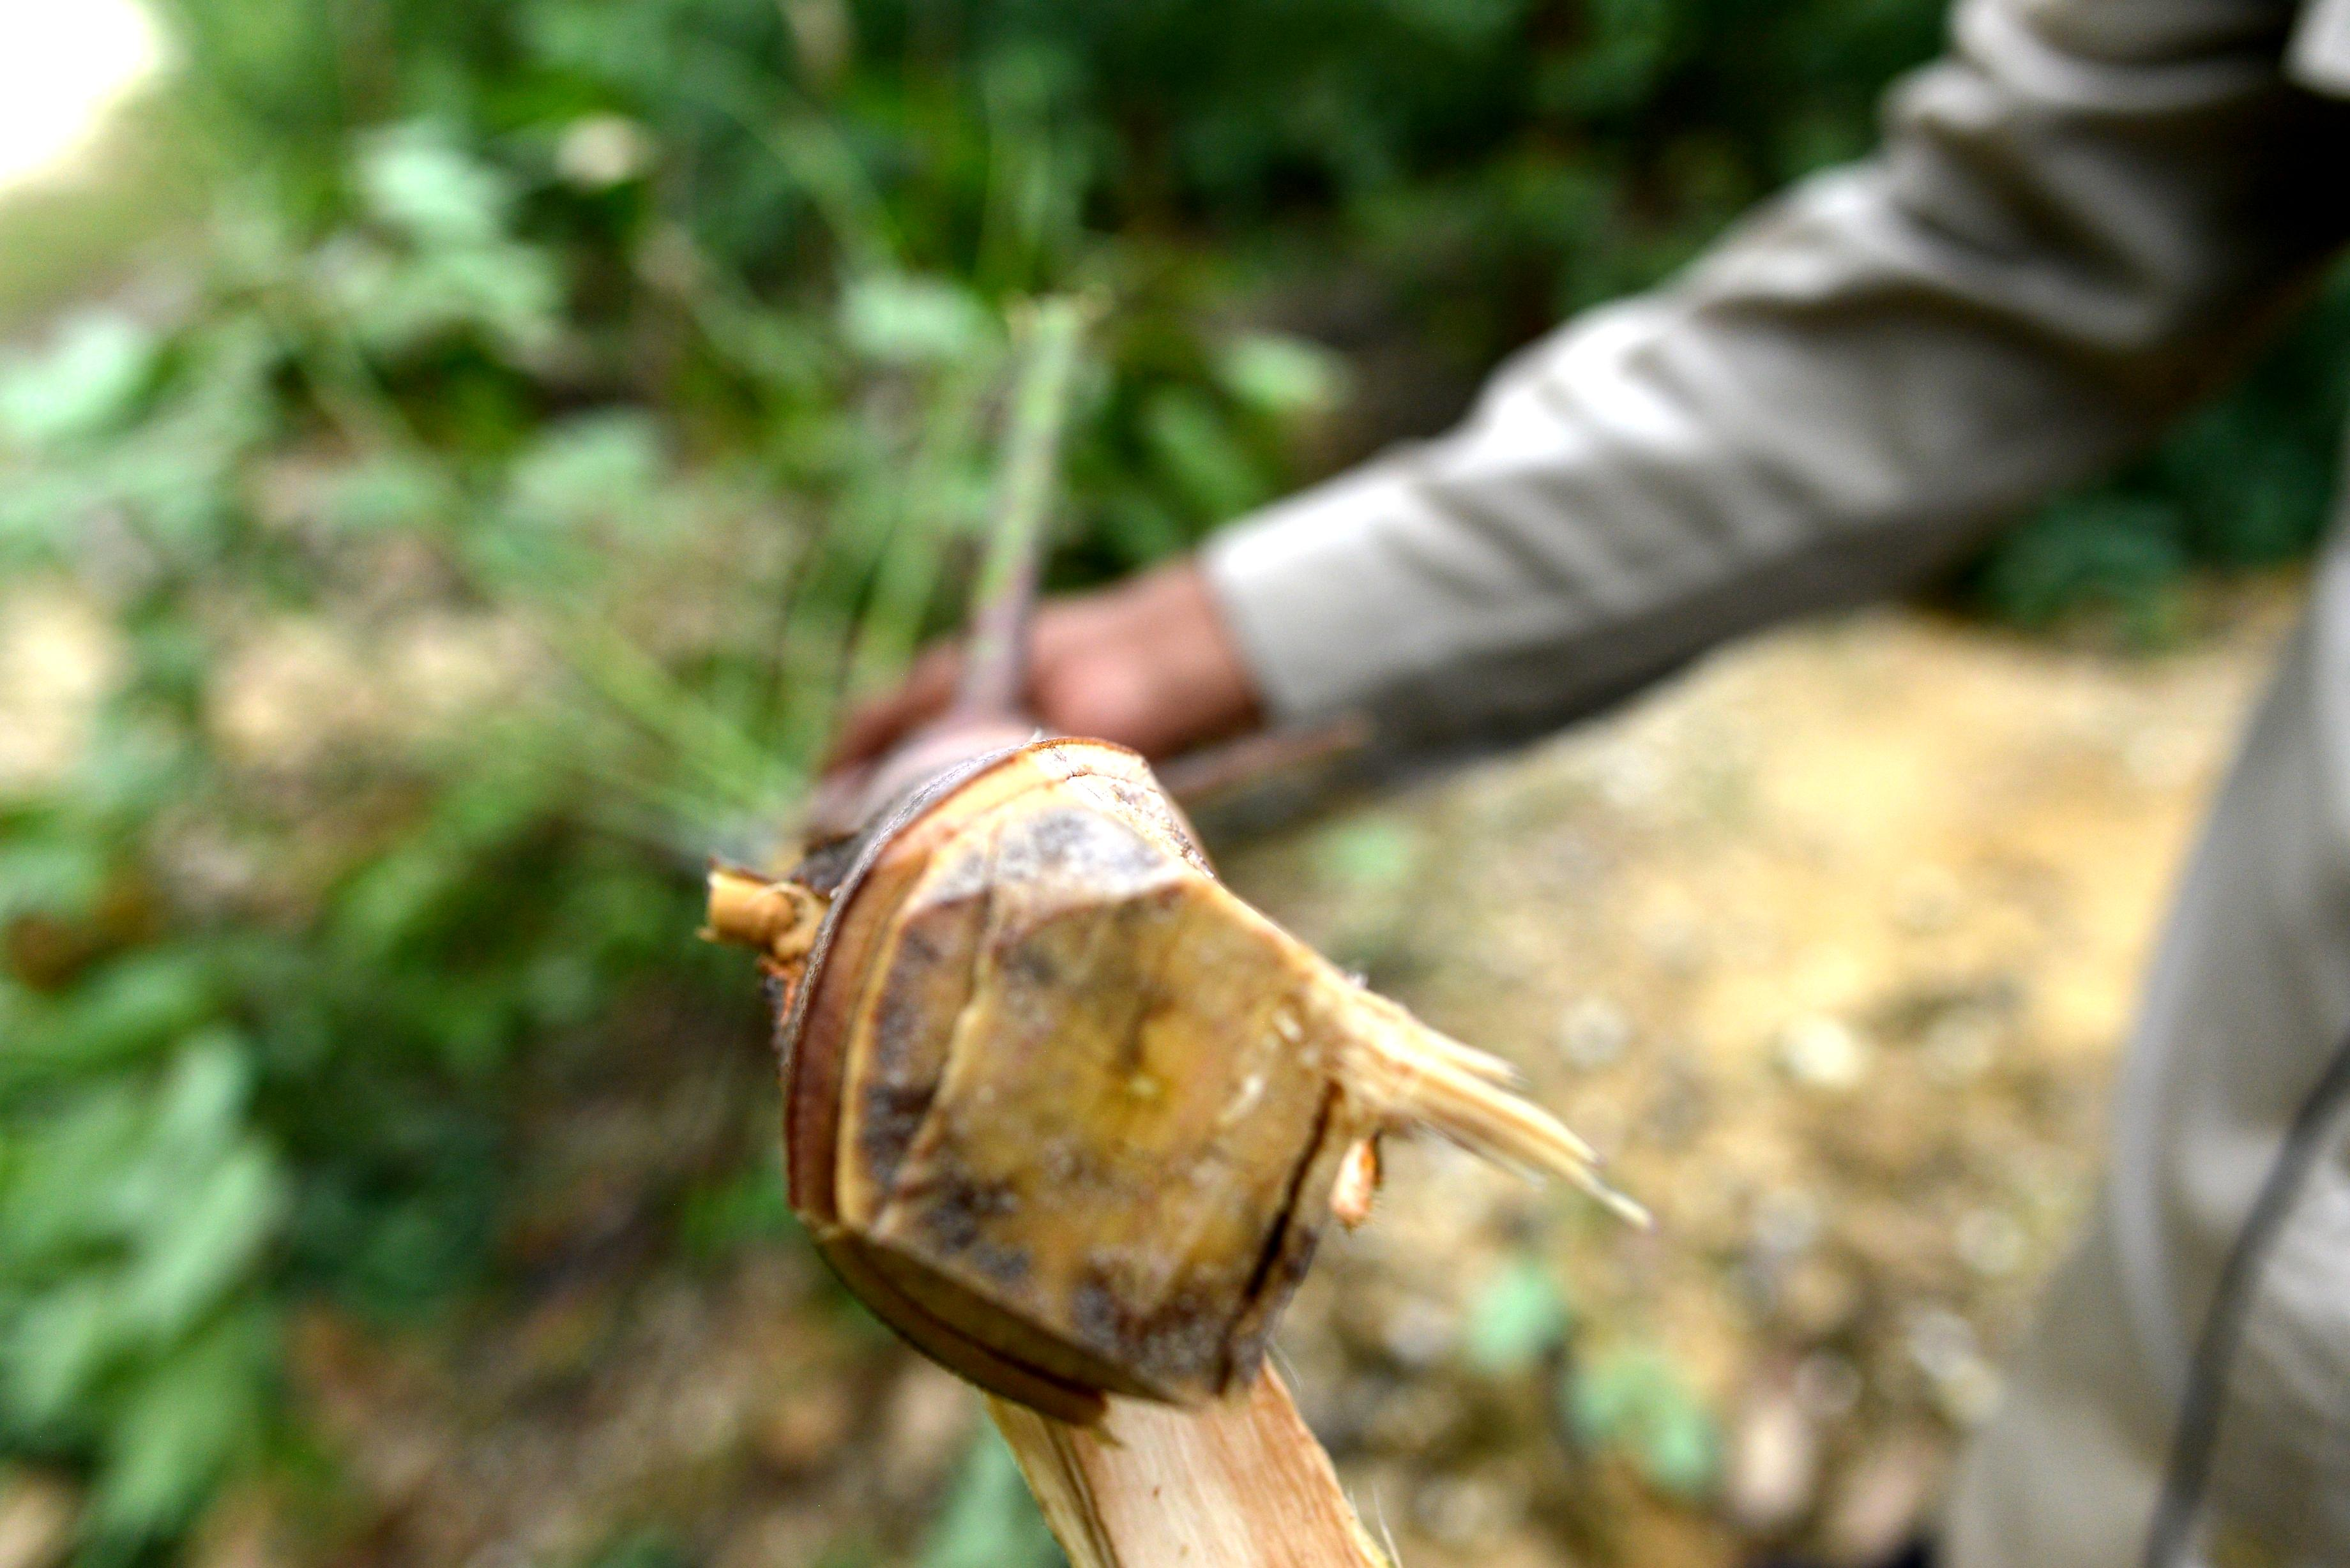Ralstonia: (891, 1185, 1265, 1398), (1039, 731, 1216, 885)
